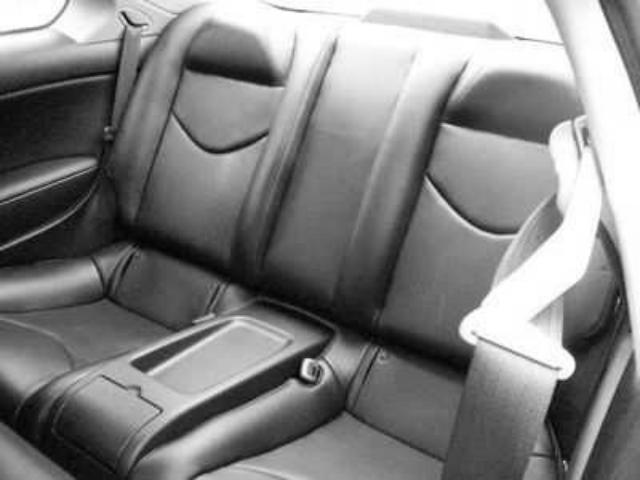Seatbelt: (432, 112, 584, 480)
